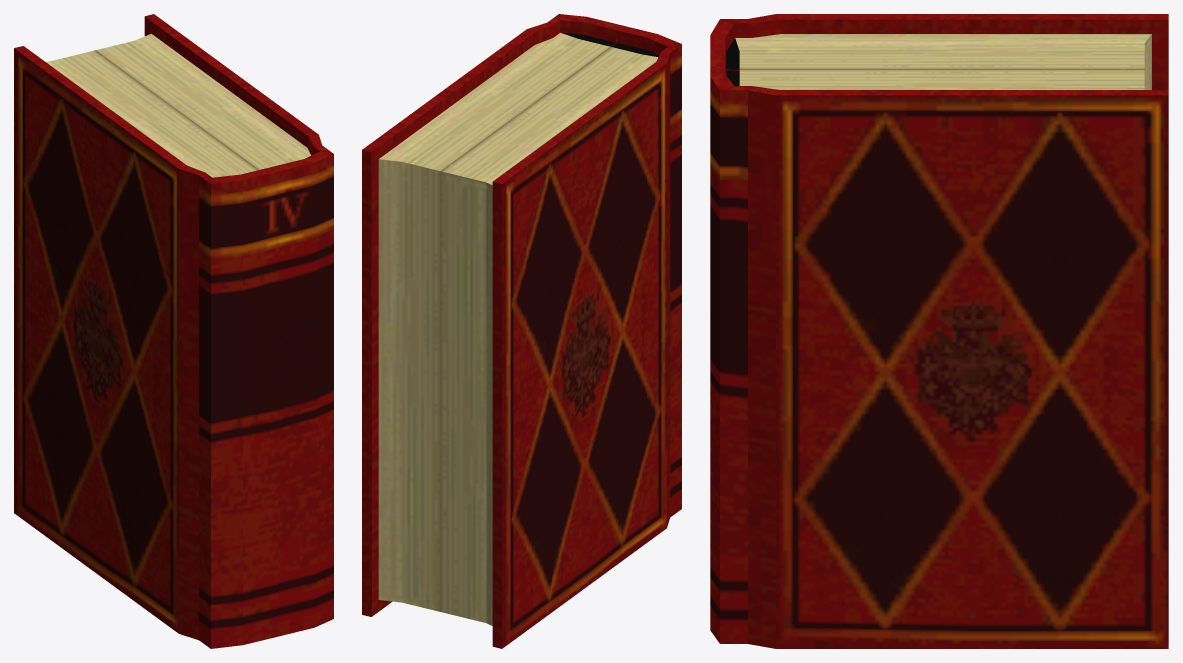
Rendered from REDS_redbookv.obj.
3 renders of one model, left to right at view 1: azimuth 30°, elevation 25°; view 2: azimuth 150°, elevation 25°; view 3: azimuth 270°, elevation 25°, orthographic. The views are drawn at different scales.
Parts seen in each view (by area): view 1: i53v; view 2: i53v; view 3: i53v.
Boxes of the visible parts, left/top/right/bottom form: i53v: left=14, top=14, right=333, bottom=648; i53v: left=362, top=14, right=681, bottom=648; i53v: left=710, top=14, right=1168, bottom=648.
Bounding box in the file's own units: 8.24 × 26.14 × 19.62.
1 material, 1 textured.
